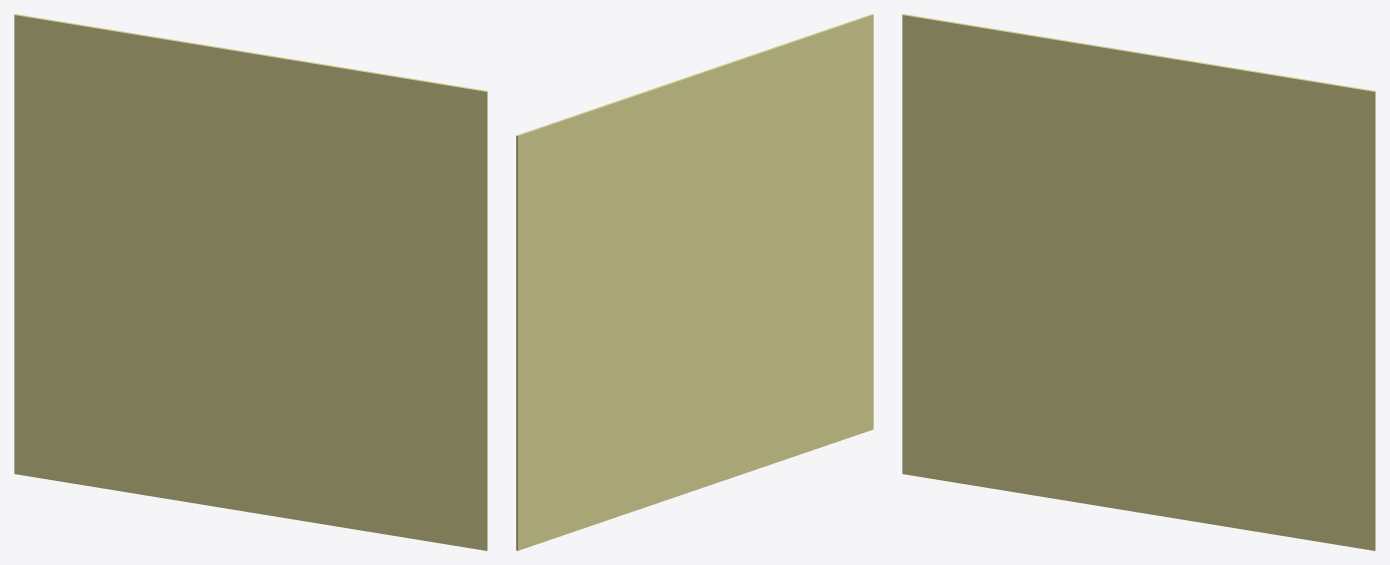
The picture shows the model from 3 angles, left to right: view 1: azimuth 90°, elevation 25°; view 2: azimuth 150°, elevation 25°; view 3: azimuth 270°, elevation 25°; orthographic projection. The views are drawn at different scales.
Visible parts, largest first — view 1: Площина.002; view 2: Площина.002; view 3: Площина.002.
Boxes of the visible parts, left/top/right/bottom form: Площина.002: left=14, top=14, right=487, bottom=550; Площина.002: left=516, top=14, right=873, bottom=550; Площина.002: left=902, top=14, right=1375, bottom=550.
Bounding box in the file's own units: 0.1995 × 0.5477 × 0.512.
